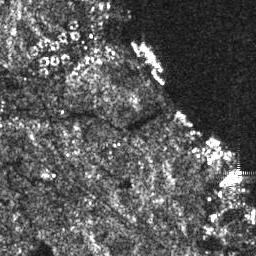ship: (141, 40, 164, 72), (218, 167, 245, 191), (174, 111, 193, 126), (150, 68, 164, 85), (130, 41, 141, 56), (210, 136, 224, 145), (250, 207, 256, 226)
